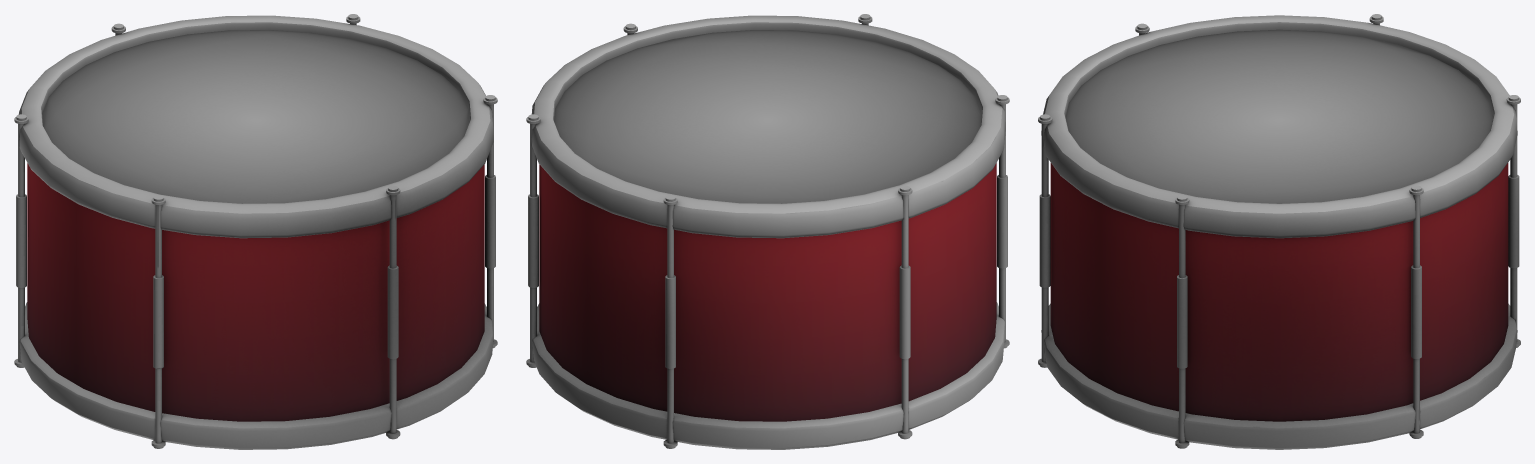
The model's file is beben_sred_A.fbx.
3 renders of one model, left to right at view 1: azimuth 30°, elevation 25°; view 2: azimuth 150°, elevation 25°; view 3: azimuth 270°, elevation 25°, orthographic.
Visible parts, largest first — view 1: beben_sred_A; view 2: beben_sred_A; view 3: beben_sred_A.
Part boxes in pixels (box(x1,y1,x2,y2)): beben_sred_A: box(14, 14, 497, 449); beben_sred_A: box(526, 14, 1009, 449); beben_sred_A: box(1038, 14, 1520, 449).
Size of the model in its own units: 749 by 432 by 759.
Materials: 1 (1 with a texture image).
